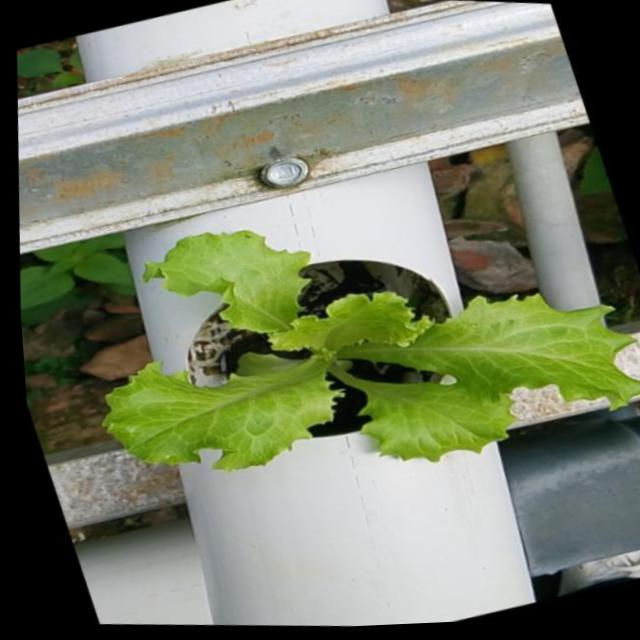Baby: (97, 239, 640, 480)
